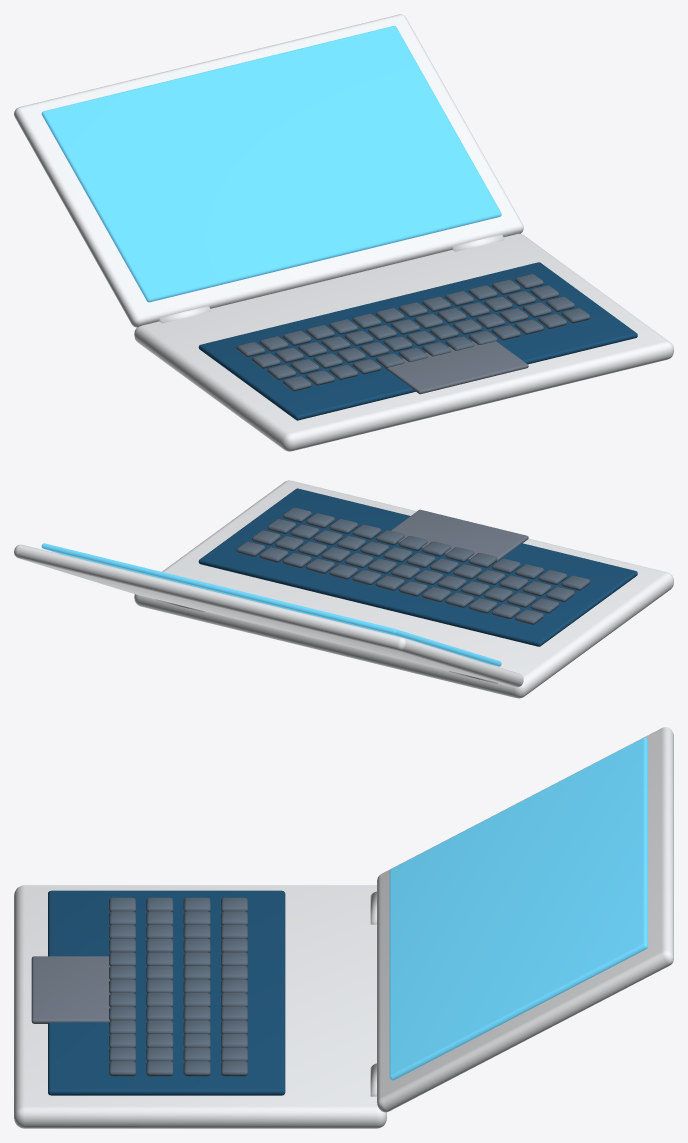
The model's file is lead-laptop.glb.
3 renders of one model, top to bottom at view 1: azimuth 30°, elevation 25°; view 2: azimuth 150°, elevation 25°; view 3: azimuth 270°, elevation 25°, orthographic. The views are drawn at different scales.
Parts seen in each view (by area): view 1: Screen, KeyboardDeck, Base, ScreenBack; view 2: KeyboardDeck, Base, ScreenBack, Screen; view 3: Screen, KeyboardDeck, Base, ScreenBack.
Part boxes in pixels (x1=…): Screen: x1=41, y1=26, x2=501, y2=302; KeyboardDeck: x1=198, y1=262, x2=637, y2=420; Base: x1=134, y1=233, x2=673, y2=451; ScreenBack: x1=14, y1=14, x2=523, y2=327; KeyboardDeck: x1=198, y1=488, x2=637, y2=646; Base: x1=134, y1=480, x2=673, y2=698; ScreenBack: x1=14, y1=544, x2=523, y2=687; Screen: x1=41, y1=543, x2=501, y2=666; Screen: x1=389, y1=737, x2=647, y2=1080; KeyboardDeck: x1=31, y1=890, x2=285, y2=1095; Base: x1=14, y1=885, x2=386, y2=1128; ScreenBack: x1=377, y1=727, x2=673, y2=1112.
Bounding box in the file's own units: 0.32 × 0.1162 × 0.3893.
